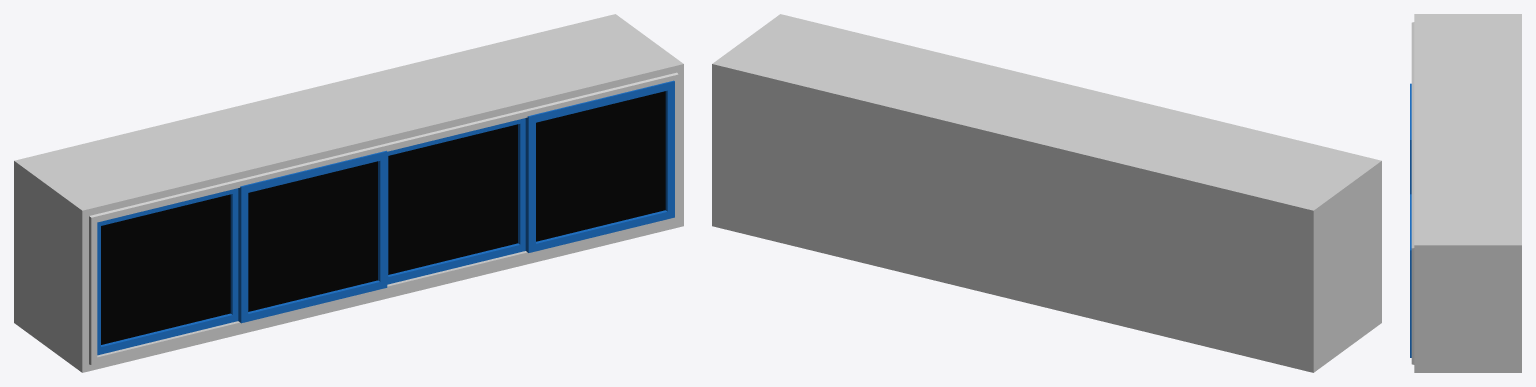
The model's file is space_shelving_3.fbx.
3 views of the same model, side by side, from view 1: azimuth 30°, elevation 25°; view 2: azimuth 150°, elevation 25°; view 3: azimuth 270°, elevation 25° (orthographic). The views are drawn at different scales.
Parts seen in each view (by area): view 1: Cube_143, Cube_140, Cube_145, Cube_141, Cube_144; view 2: Cube_143; view 3: Cube_143, Cube_145, Cube_140.
Boxes of the visible parts, x1=… form: Cube_143: x1=14, y1=14, x2=683, y2=372; Cube_140: x1=238, y1=150, x2=387, y2=323; Cube_145: x1=525, y1=80, x2=674, y2=252; Cube_141: x1=97, y1=188, x2=238, y2=355; Cube_144: x1=387, y1=118, x2=525, y2=284; Cube_143: x1=712, y1=14, x2=1381, y2=372; Cube_143: x1=1411, y1=14, x2=1521, y2=372; Cube_145: x1=1410, y1=194, x2=1411, y2=357; Cube_140: x1=1410, y1=83, x2=1411, y2=194.
Size of the model in its own units: 391 by 101 by 79.91.
